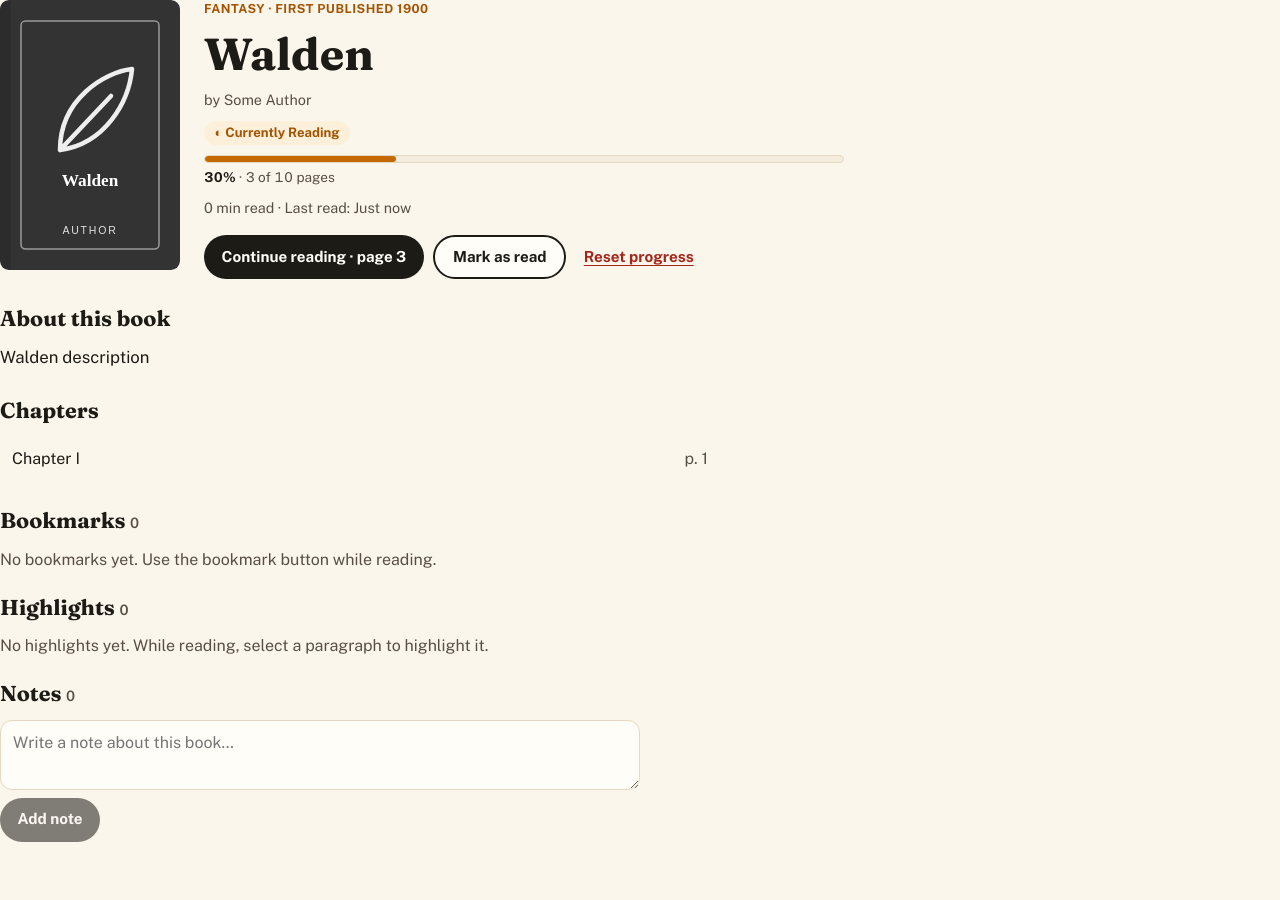
Test case: Book details › asks before marking as read; Cancel changes nothing, confirming completes the book
Click the button with test id "mark-read".
click(500, 257)  # box [433,235,566,279]
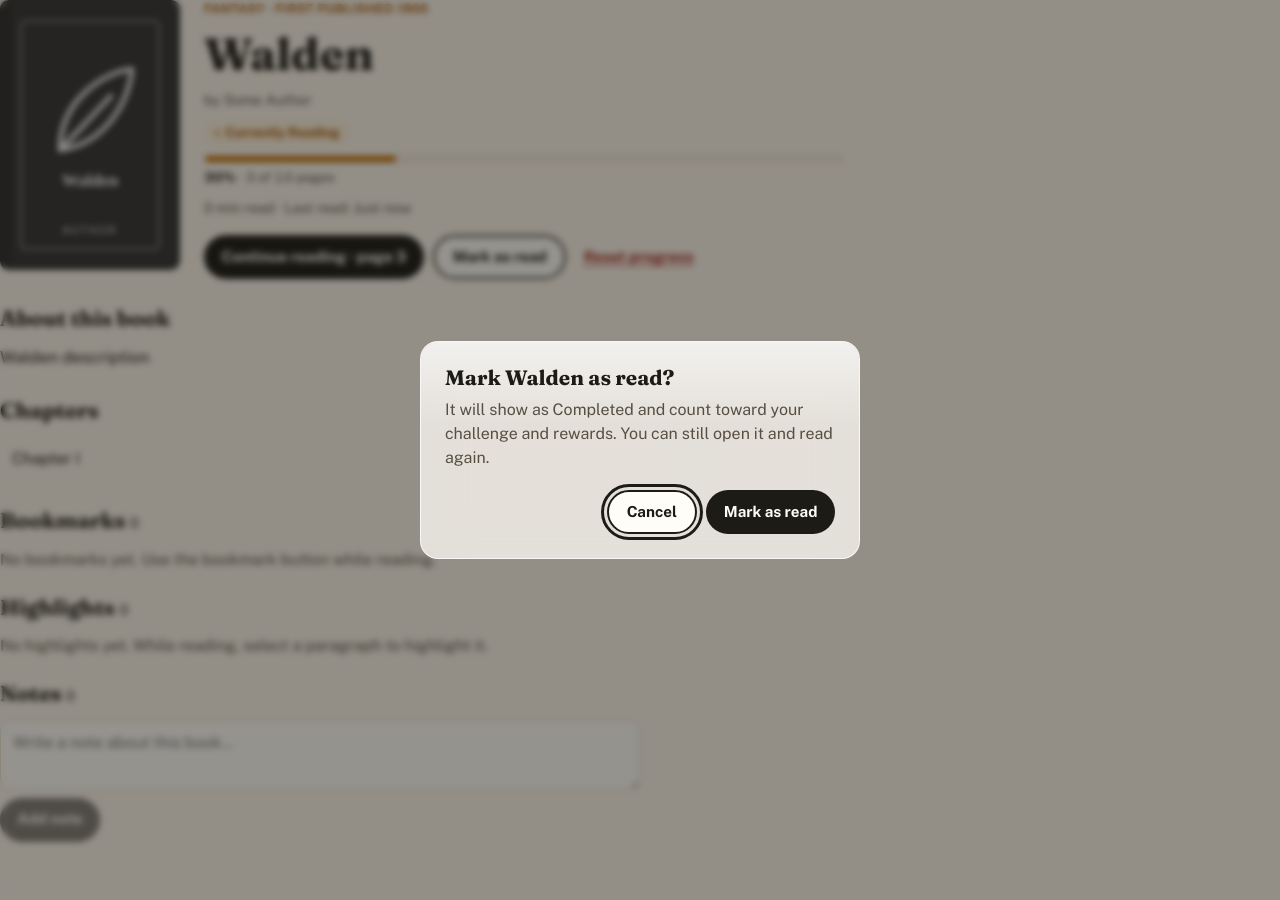
Click the button "Cancel".
click(652, 512)  # box [607,490,696,534]
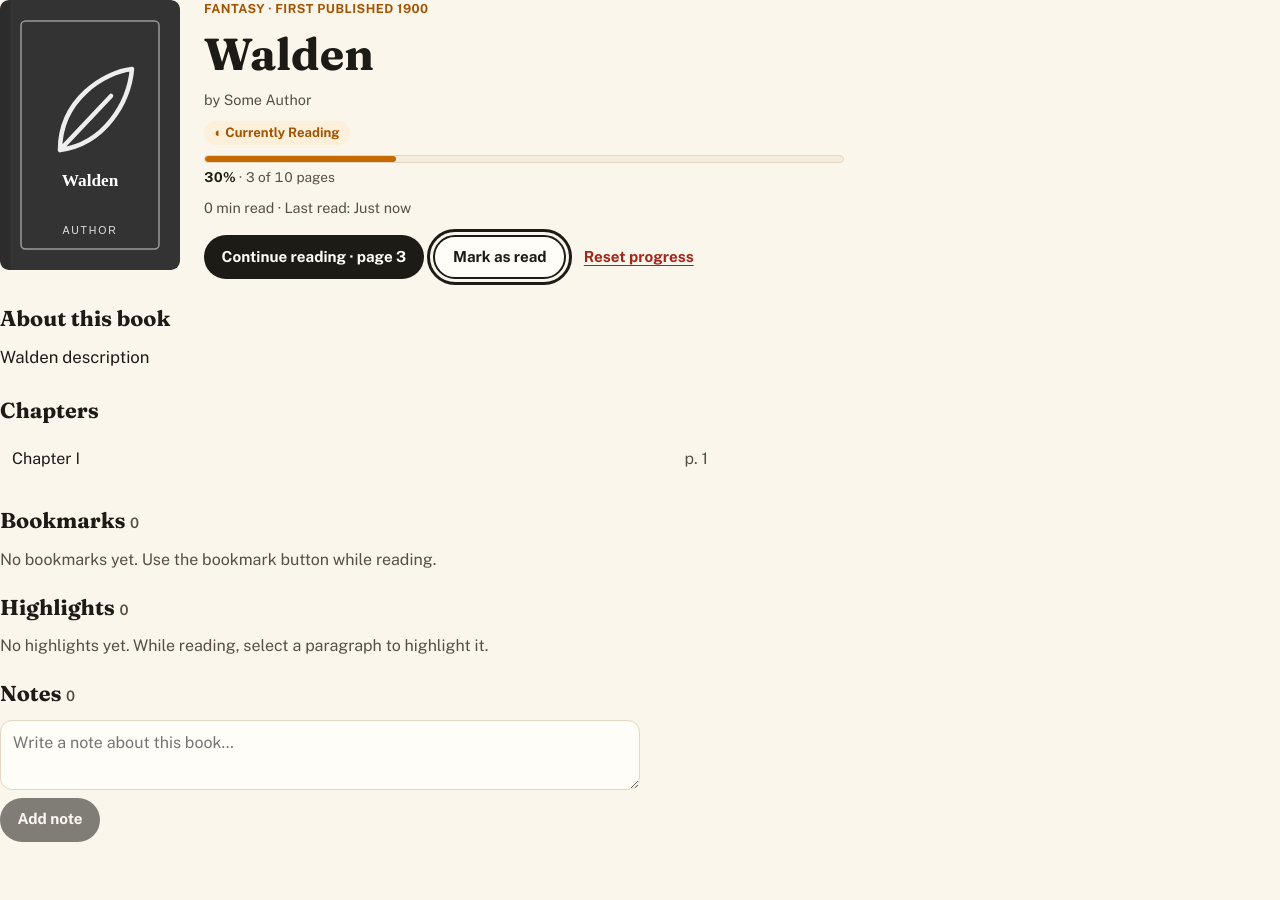
Click the button with test id "mark-read".
click(500, 257)  # box [433,235,566,279]
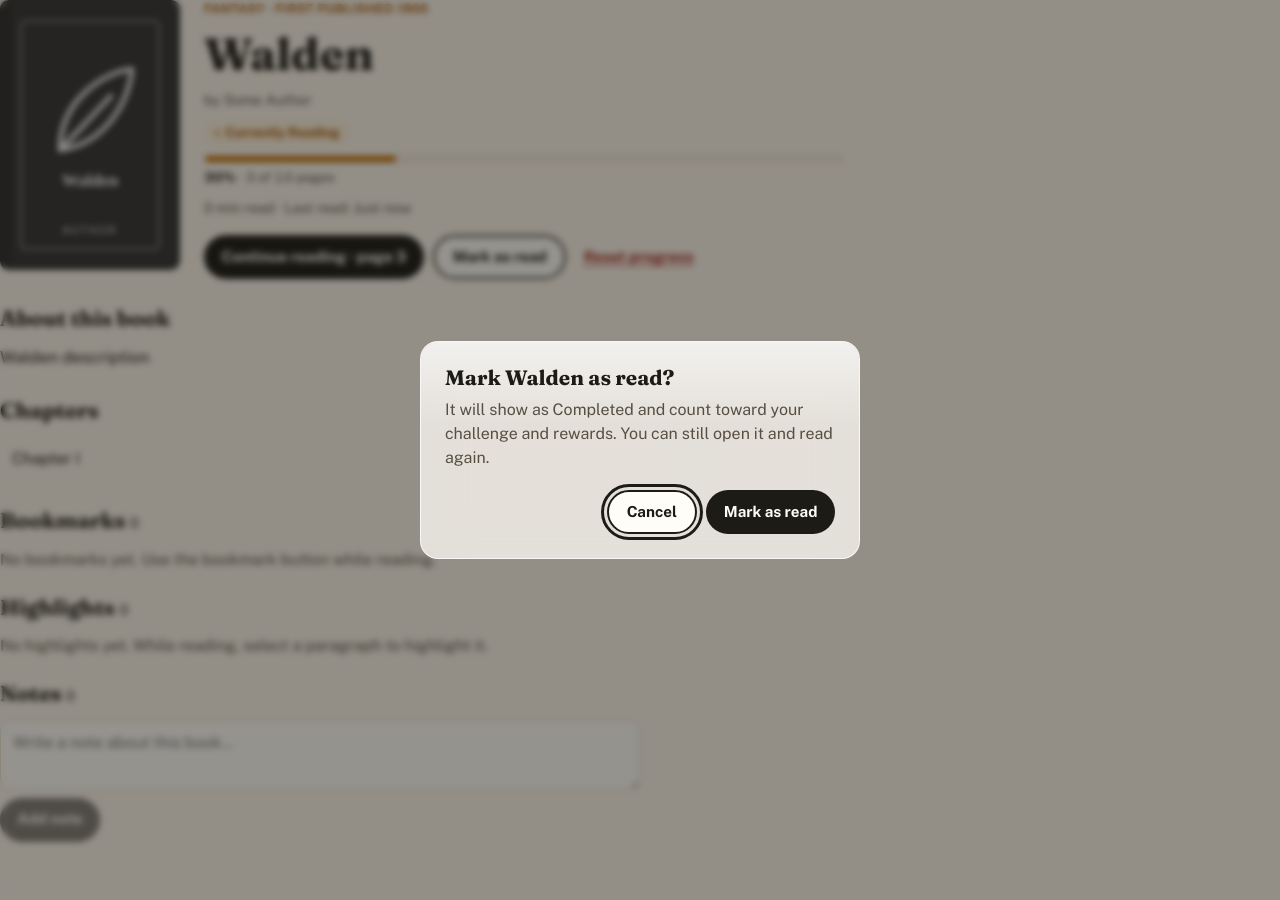
Click the button "Mark as read".
click(771, 512)  # box [706,490,835,534]
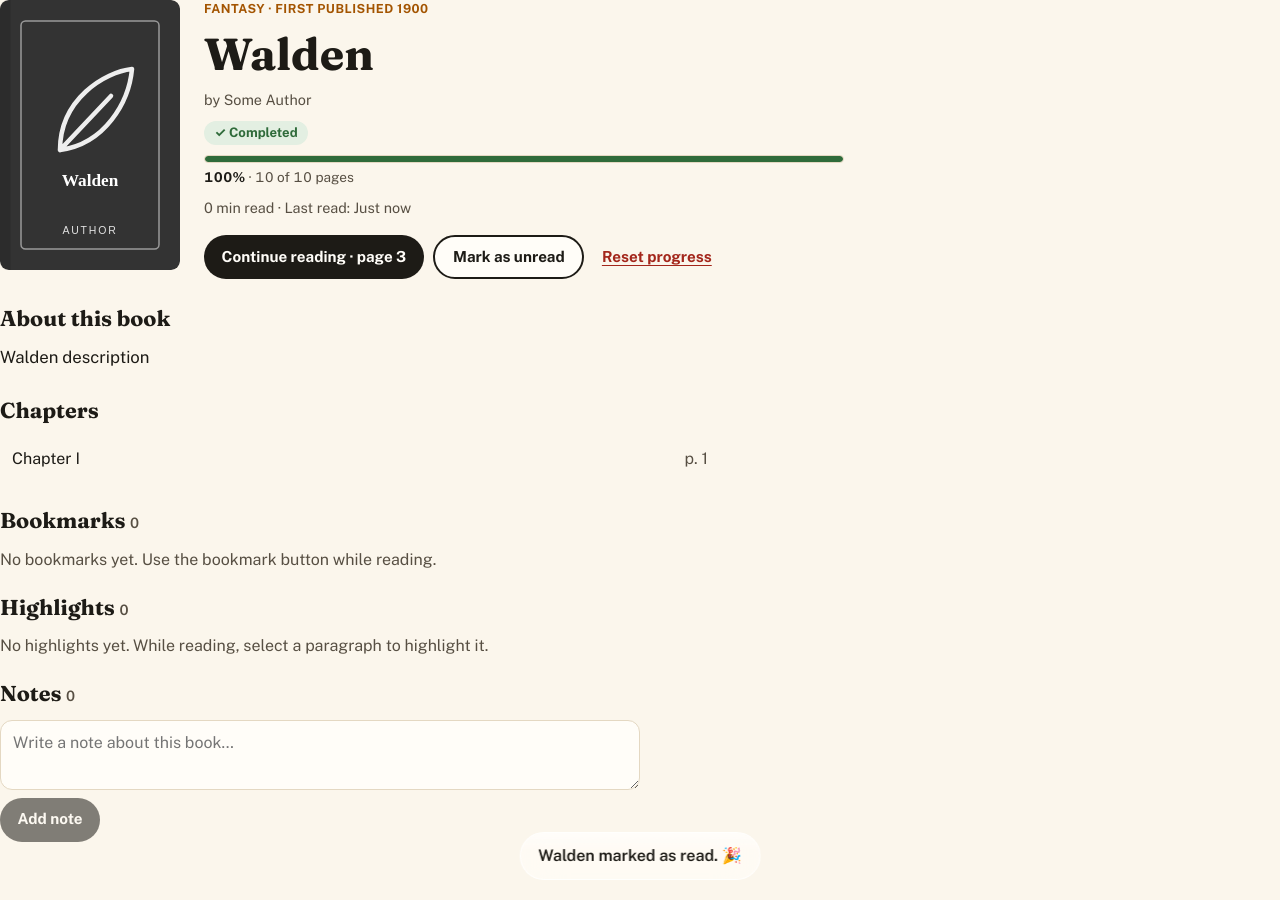
Now the text "✓ Completed" is shown, box [204,121,308,145]
Now the button "Mark as unread" is shown, box [433,235,584,279]
